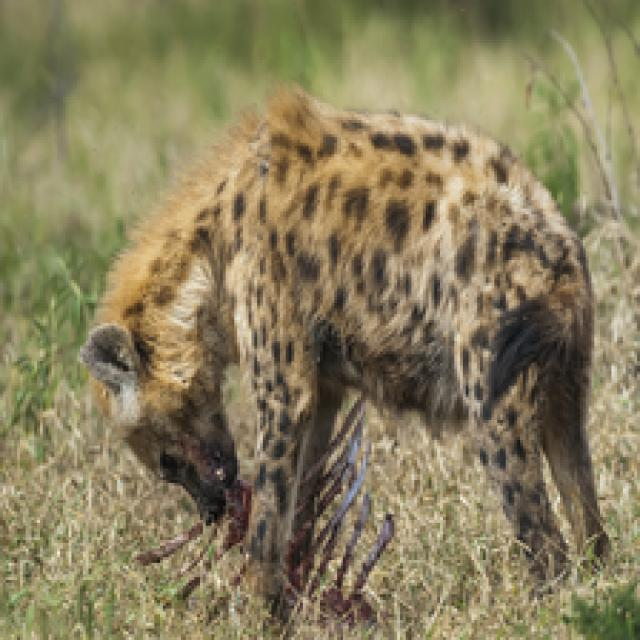hyena: (89, 91, 610, 594)
